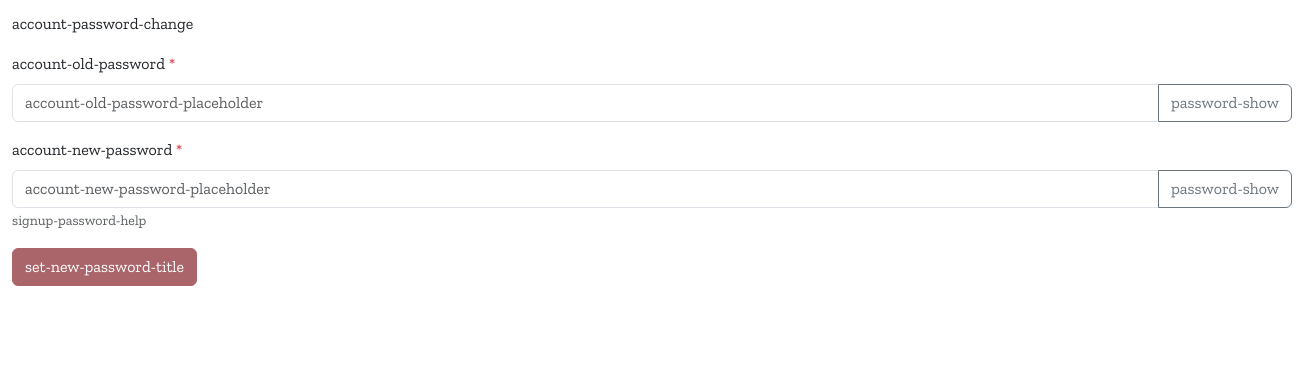
Test: AccountSetNewPasswordTab › renders and submits the form when the form is valid
Fill the form
Type "Password123@" into the password field with placeholder "account-old-password-placeholder" at (586, 103), box [12,84,1159,122]
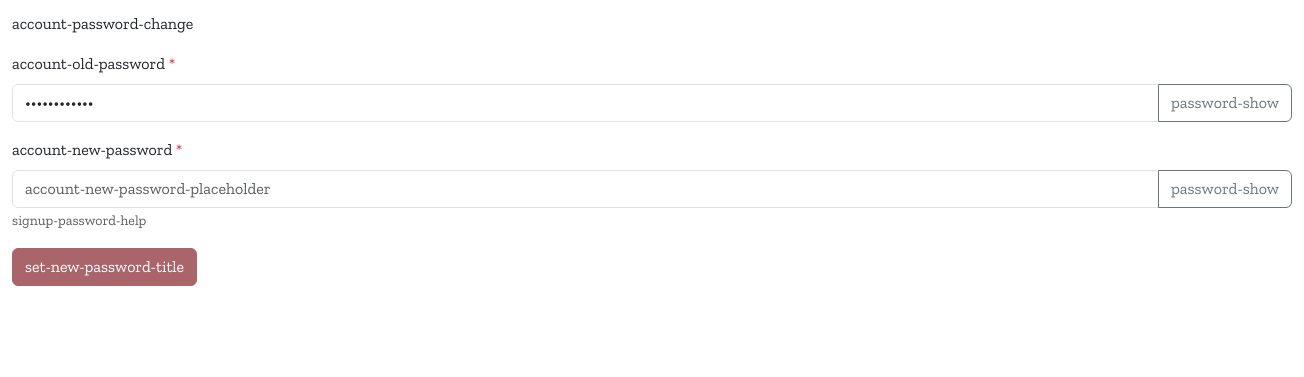
Type "Password123@" into the password field with placeholder "account-new-password-placeholder" at (586, 189), box [12,170,1159,208]
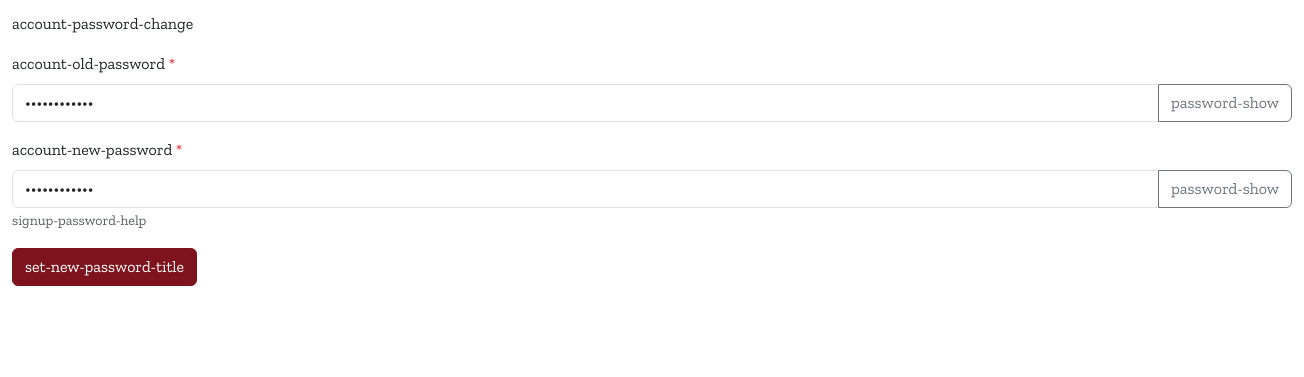
Click the button "set-new-password-title" at (105, 267), box [12,248,197,286]
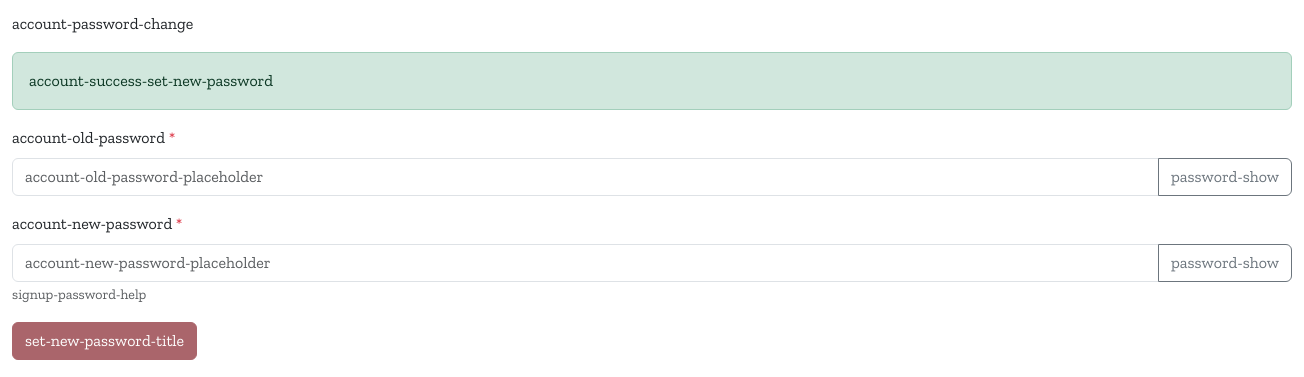
Now the text "account-success-set-new-password" is shown, box [12,52,1292,110]
